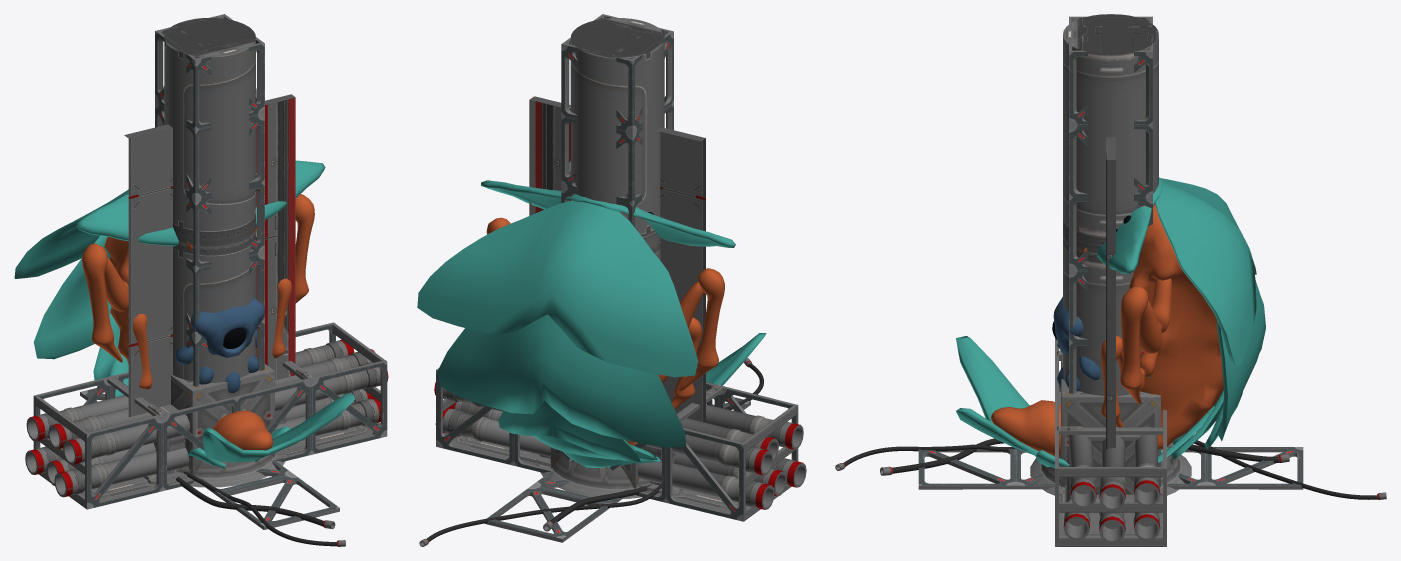
Rendered from lab_props.glb.
3 renders of one model, left to right at view 1: azimuth 30°, elevation 25°; view 2: azimuth 150°, elevation 25°; view 3: azimuth 270°, elevation 25°, orthographic. The views are drawn at different scales.
Visible parts, largest first — view 1: lab_Prop_PipeHolder, lab_Column_Round, lab_Alien_Scolitex, lab_Door_Metal, lab_Column_Pipes, lab_Prop_Crate4, lab_Alien_Cyclop, lab_Column_MetalSupport, lab_Prop_Cable_3, Prop_Fan_Small; view 2: lab_Alien_Scolitex, lab_Prop_PipeHolder, lab_Column_Round, lab_Door_Metal, lab_Column_Pipes, lab_Column_MetalSupport, Prop_Fan_Small, lab_Prop_Cable_3, lab_Prop_Vent_Big; view 3: lab_Alien_Scolitex, lab_Column_Round, lab_Prop_PipeHolder, lab_Column_Pipes, lab_Column_MetalSupport, lab_Prop_Crate4, lab_Prop_Cable_3, lab_Door_Metal, lab_Alien_Cyclop, Prop_Fan_Small, Prop_Chest.
Boxes of the visible parts, x1,y1,x2,y2 form: lab_Prop_PipeHolder: [25, 322, 388, 509]; lab_Column_Round: [164, 17, 255, 382]; lab_Alien_Scolitex: [14, 160, 355, 468]; lab_Door_Metal: [124, 94, 295, 417]; lab_Column_Pipes: [155, 14, 264, 386]; lab_Prop_Crate4: [171, 357, 274, 475]; lab_Alien_Cyclop: [176, 298, 264, 393]; lab_Column_MetalSupport: [80, 388, 339, 529]; lab_Prop_Cable_3: [176, 472, 345, 546]; Prop_Fan_Small: [178, 454, 285, 487]; lab_Alien_Scolitex: [417, 180, 766, 467]; lab_Prop_PipeHolder: [434, 368, 806, 521]; lab_Column_Round: [570, 18, 664, 259]; lab_Door_Metal: [529, 96, 705, 422]; lab_Column_Pipes: [561, 14, 673, 227]; lab_Column_MetalSupport: [484, 397, 750, 542]; Prop_Fan_Small: [540, 455, 649, 498]; lab_Prop_Cable_3: [419, 358, 763, 546]; lab_Prop_Vent_Big: [520, 451, 683, 496]; lab_Alien_Scolitex: [956, 177, 1265, 468]; lab_Column_Round: [1063, 14, 1158, 395]; lab_Prop_PipeHolder: [1055, 338, 1166, 546]; lab_Column_Pipes: [1069, 16, 1152, 393]; lab_Column_MetalSupport: [918, 447, 1303, 489]; lab_Prop_Crate4: [1060, 355, 1160, 487]; lab_Prop_Cable_3: [835, 438, 1386, 499]; lab_Door_Metal: [1106, 137, 1115, 449]; lab_Alien_Cyclop: [1052, 297, 1100, 391]; Prop_Fan_Small: [1030, 454, 1191, 495]; Prop_Chest: [1086, 436, 1140, 494].
Size of the model in its own units: 4.12 by 5.05 by 5.73.
41 materials, 29 textured.
